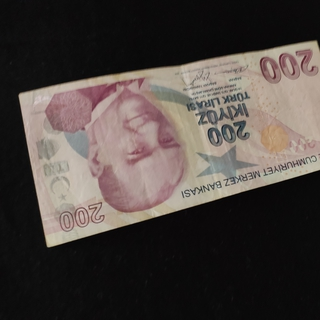200TLFront: (18, 39, 320, 247)
